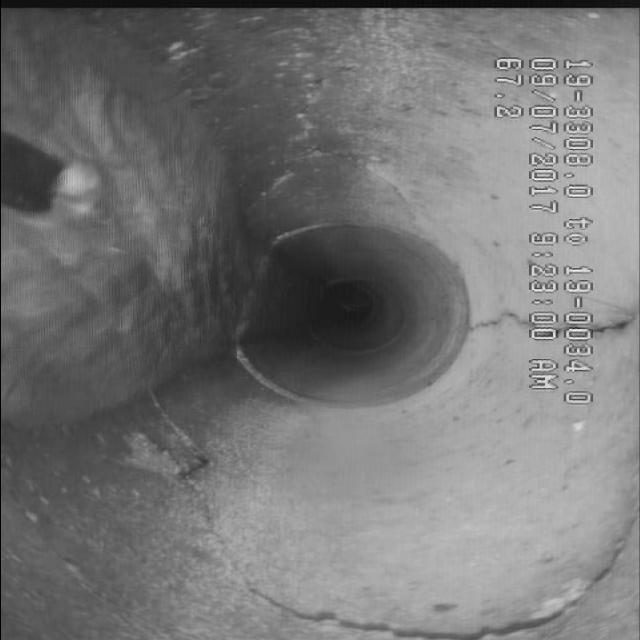Fracture: (183, 518, 640, 639), (475, 296, 635, 354)
